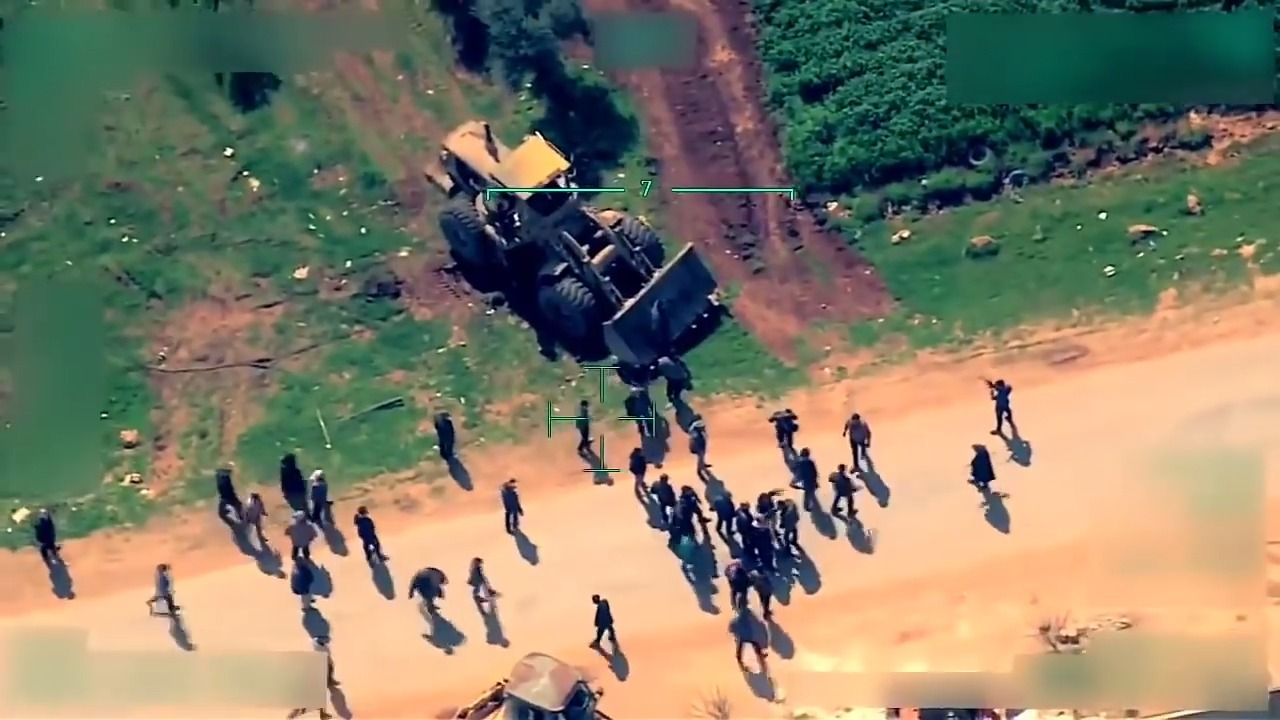arac: (400, 122, 751, 362)
insan: (578, 591, 636, 654), (974, 372, 1027, 437), (137, 557, 185, 616), (24, 502, 76, 556), (843, 403, 885, 468), (826, 459, 862, 532), (961, 442, 1004, 500), (495, 468, 527, 543), (465, 555, 507, 607), (354, 496, 386, 563), (776, 488, 810, 551), (425, 414, 465, 467), (306, 465, 336, 535), (624, 445, 656, 510), (688, 416, 715, 484), (754, 561, 780, 612)
